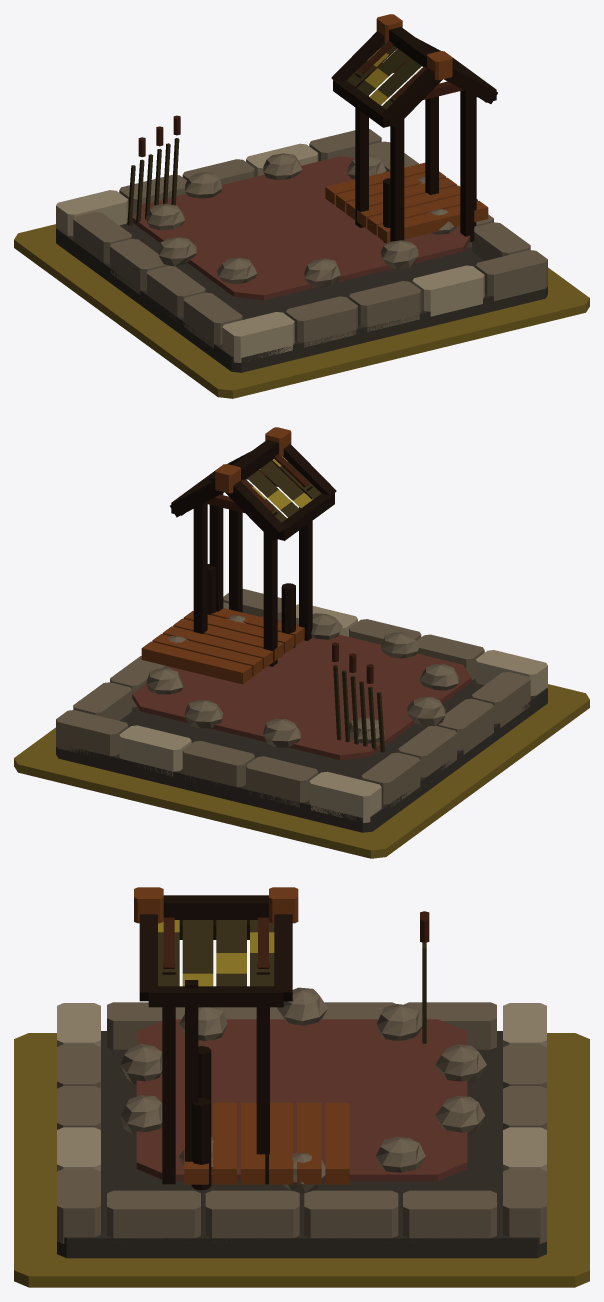
Rendered from pond_t4.glb.
3 views of the same model, one above another, from view 1: azimuth 30°, elevation 25°; view 2: azimuth 150°, elevation 25°; view 3: azimuth 270°, elevation 25° (orthographic). The views are drawn at different scales.
Visible parts, largest first — view 1: MMR | pond | T04 Architecture.001, MMR | pond | Tier 04 Ground.001; view 2: MMR | pond | T04 Architecture.001, MMR | pond | Tier 04 Ground.001; view 3: MMR | pond | T04 Architecture.001, MMR | pond | Tier 04 Ground.001.
Part boxes in pixels (<box>): MMR | pond | T04 Architecture.001: <box>56,14,547,372</box>; MMR | pond | Tier 04 Ground.001: <box>14,224,589,398</box>; MMR | pond | T04 Architecture.001: <box>56,427,547,832</box>; MMR | pond | Tier 04 Ground.001: <box>14,684,589,858</box>; MMR | pond | T04 Architecture.001: <box>57,887,546,1258</box>; MMR | pond | Tier 04 Ground.001: <box>14,1033,589,1287</box>.
Size of the model in its own units: 2.35 by 1.46 by 2.35.
Materials: 1 (1 with a texture image).
